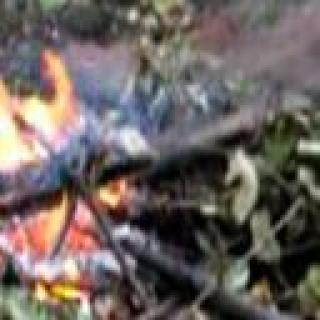fire: (0, 0, 111, 313)
